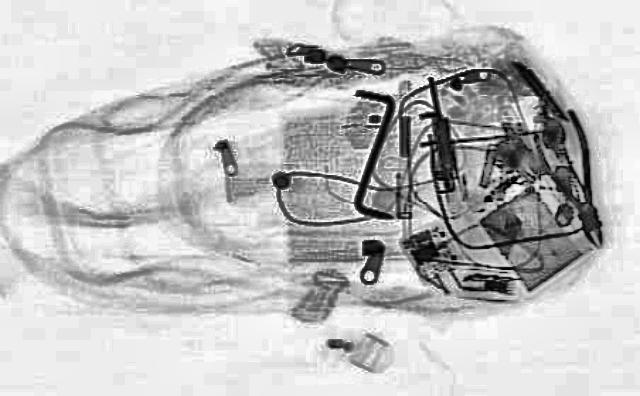Pliers: (520, 107, 630, 251)
